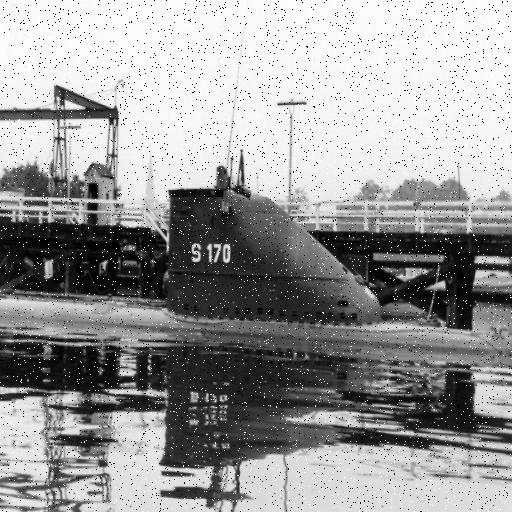submarine: (1, 190, 512, 363)
